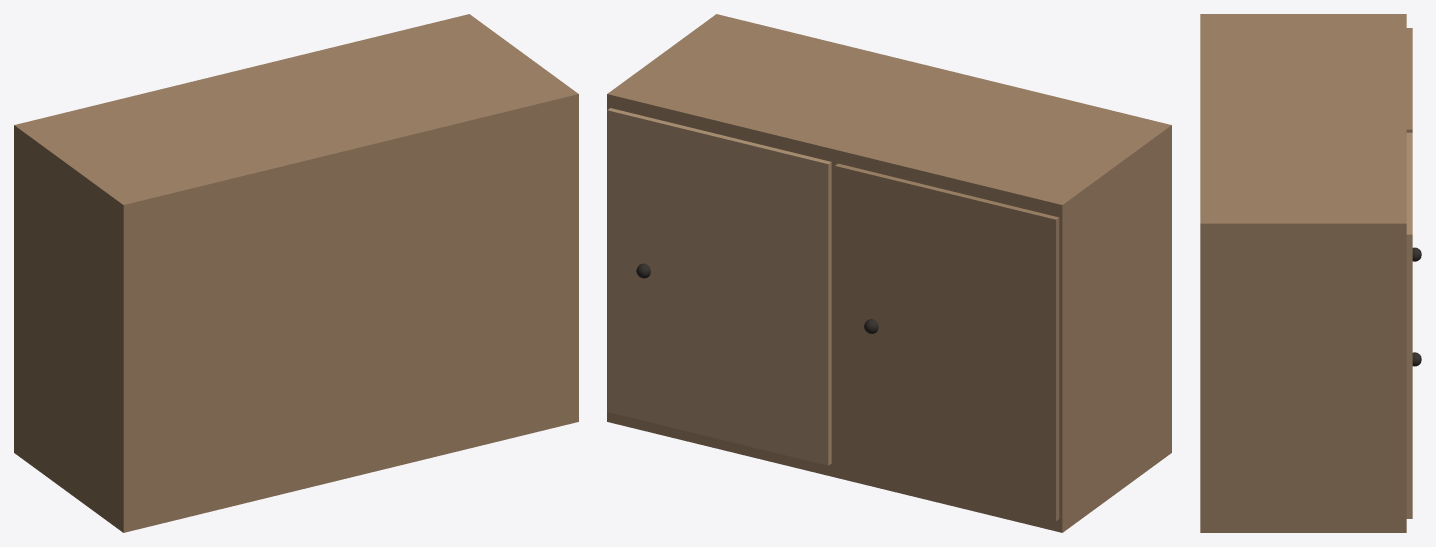
The model's file is revento-line.glb.
3 renders of one model, left to right at view 1: azimuth 30°, elevation 25°; view 2: azimuth 150°, elevation 25°; view 3: azimuth 270°, elevation 25°, orthographic. The views are drawn at different scales.
Parts seen in each view (by area): view 1: cabinet; view 2: cabinet, door-2, door-1; view 3: cabinet, door-2, door-1.
Part boxes in pixels (x1,y1,x2,y2): cabinet: [14, 14, 578, 532]; cabinet: [607, 14, 1171, 532]; door-2: [607, 108, 831, 465]; door-1: [835, 163, 1059, 521]; cabinet: [1200, 14, 1406, 532]; door-2: [1406, 132, 1412, 518]; door-1: [1406, 28, 1412, 132].
Size of the model in its own units: 1.25 by 0.86 by 0.5571.
